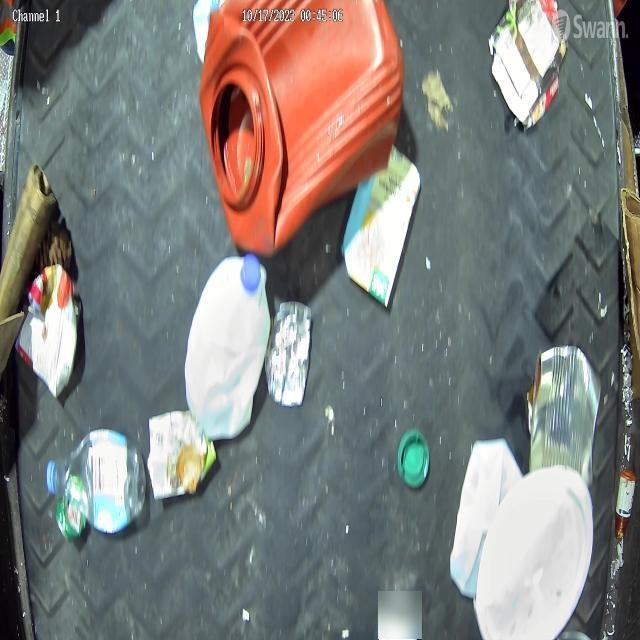milk_jug: (479, 465, 597, 640), (185, 253, 272, 434), (452, 434, 524, 598)
non_white_jug: (199, 0, 405, 257)
plastic_bottle: (46, 428, 144, 540)
